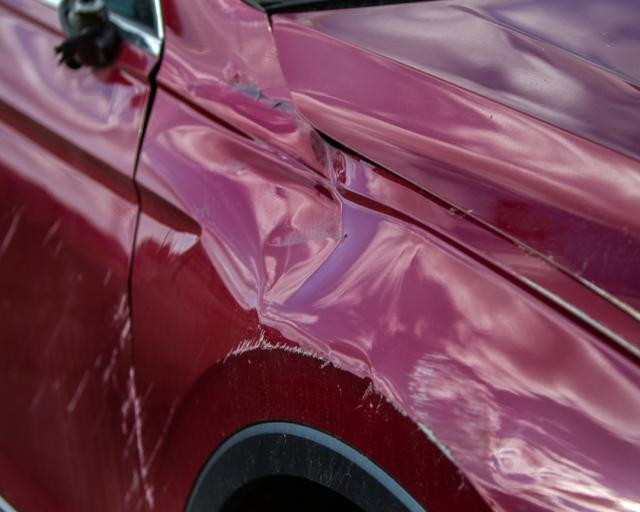dent: (145, 120, 640, 511)
scratch: (0, 210, 173, 512), (222, 332, 315, 364)
